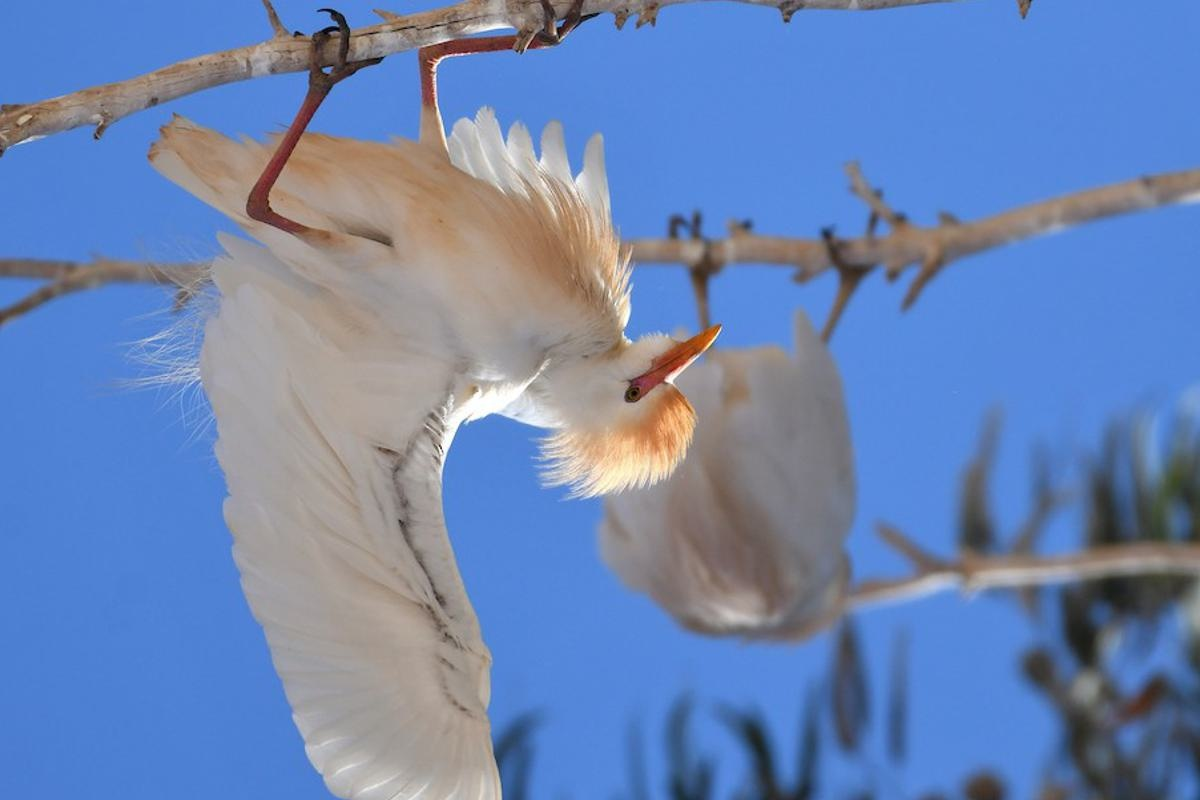egret: (120, 8, 711, 790)
